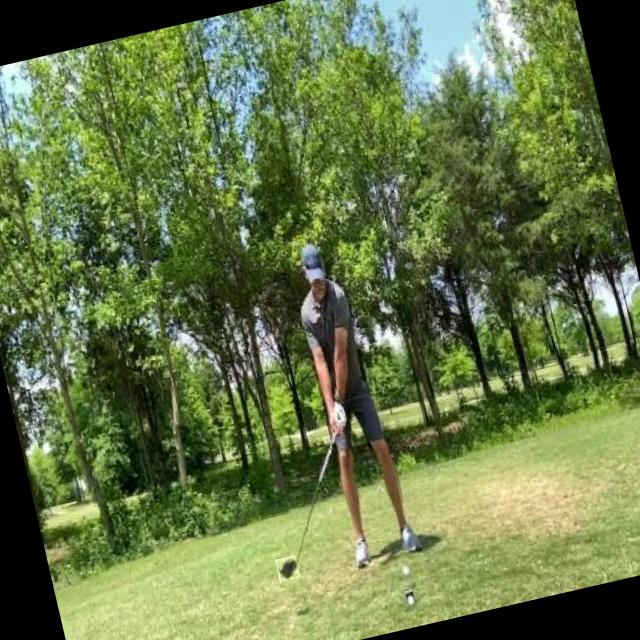club head: (274, 554, 300, 582)
